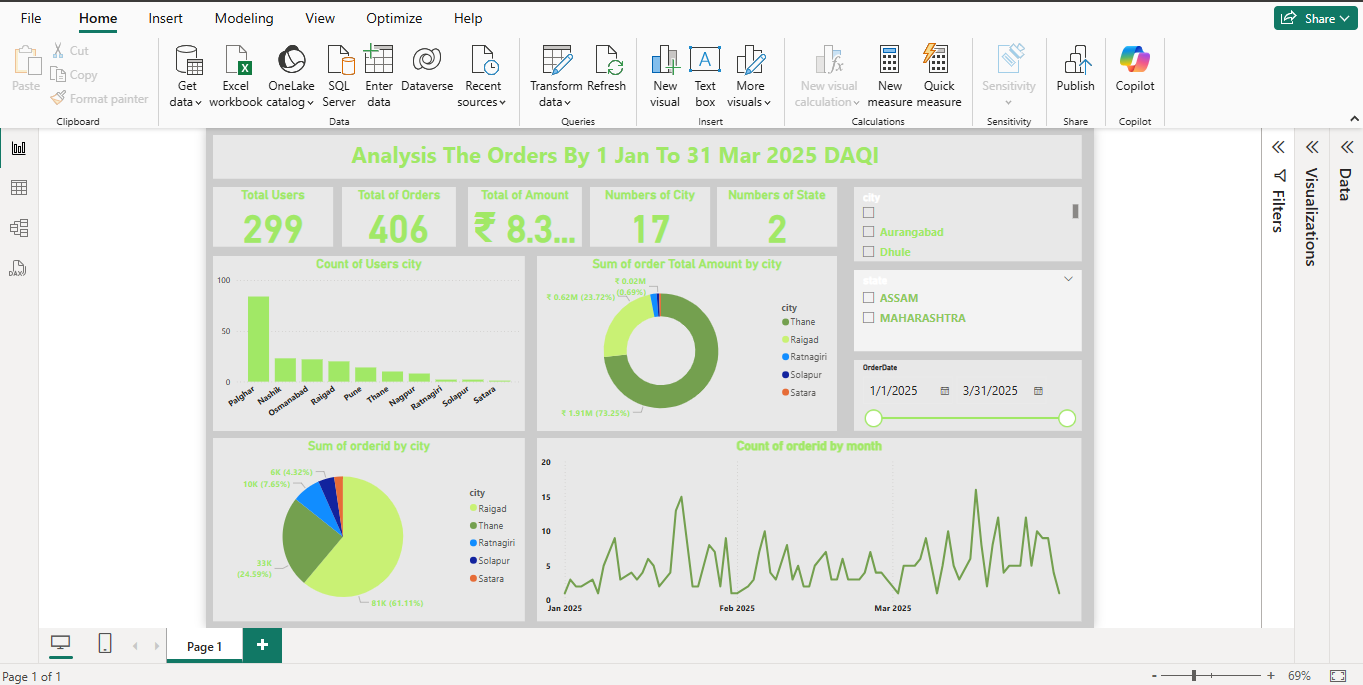

What the dashboard file says about the page in this screenshot:
{"tool":"powerbi","page":{"name":"Page 1","canvas":[1280,720],"ordinal":0},"visuals":[{"type":"textbox","box":[10.1,10.1,1251.4,63.4],"z":0},{"type":"card","title":"Total Users","fields":{"Values":["Count(1jan-31mar data powerbi 123.id)"]},"box":[10.1,85,172.8,86.4],"z":1000},{"type":"card","title":"Total of Orders","fields":{"Values":["Count(1jan-31mar data powerbi 123.orderid)"]},"box":[195.8,85,164.2,86.4],"z":2000},{"type":"card","title":"Total of Amount","fields":{"Values":["Sum(1jan-31mar data powerbi 123.orderTotalWithGST)"]},"box":[377.3,85,164.2,86.4],"z":3000},{"type":"card","title":"Numbers of City","fields":{"Values":["Count(1jan-31mar data powerbi 123.city)"]},"box":[553,85,172.8,86.4],"z":4000},{"type":"card","title":"Numbers of State","fields":{"Values":["Count(1jan-31mar data powerbi 123.state)"]},"box":[735.8,85,172.8,86.4],"z":5000},{"type":"slicer","fields":{"Values":["1jan-31mar data powerbi 123.city"]},"box":[933.1,85,328.3,106.6],"z":6000},{"type":"slicer","fields":{"Values":["1jan-31mar data powerbi 123.state"]},"box":[933.1,204.5,328.3,116.6],"z":7000},{"type":"slicer","fields":{"Values":["1jan-31mar data powerbi 123.orderDate.1"]},"box":[933.1,334.1,328.3,102.2],"z":8000},{"type":"columnChart","title":"Count of Users city","fields":{"Category":["1jan-31mar data powerbi 123.city"],"Y":["Count(1jan-31mar data powerbi 123.id)"]},"box":[10.1,184.3,449.3,252],"z":9000},{"type":"pieChart","fields":{"Category":["1jan-31mar data powerbi 123.city"],"Y":["Sum(1jan-31mar data powerbi 123.orderid)"]},"box":[10.1,446.4,449.3,263.5],"z":10000},{"type":"donutChart","title":"Sum of order Total Amount by city","fields":{"Category":["1jan-31mar data powerbi 123.city"],"Y":["Sum(1jan-31mar data powerbi 123.orderTotalWithGST)"]},"box":[476.6,184.3,432,252],"z":11000},{"type":"lineChart","title":"Count of orderid by month","fields":{"Category":["1jan-31mar data powerbi 123.orderDate.1"],"Y":["Count(1jan-31mar data powerbi 123.orderid)"]},"box":[477.1,446.8,784.5,263.7],"z":12000}]}

Visuals, with their boxes on the page's 1280x720 design canvas (x1, y1, x2, y2). These are canvas units, not pixel positions in the 1363x685 screenshot, which may show the page scaled, cropped or inside an application window:
textbox: bbox=[10, 10, 1262, 74]
"Total Users" card: bbox=[10, 85, 183, 171]
"Total of Orders" card: bbox=[196, 85, 360, 171]
"Total of Amount" card: bbox=[377, 85, 542, 171]
"Numbers of City" card: bbox=[553, 85, 726, 171]
"Numbers of State" card: bbox=[736, 85, 909, 171]
slicer - 1jan-31mar data powerbi 123.city: bbox=[933, 85, 1261, 192]
slicer - 1jan-31mar data powerbi 123.state: bbox=[933, 204, 1261, 321]
slicer - 1jan-31mar data powerbi 123.orderDate.1: bbox=[933, 334, 1261, 436]
"Count of Users city" columnChart: bbox=[10, 184, 459, 436]
pieChart - 1jan-31mar data powerbi 123.city x Sum(1jan-31mar data powerbi 123.orderid): bbox=[10, 446, 459, 710]
"Sum of order Total Amount by city" donutChart: bbox=[477, 184, 909, 436]
"Count of orderid by month" lineChart: bbox=[477, 447, 1262, 710]
